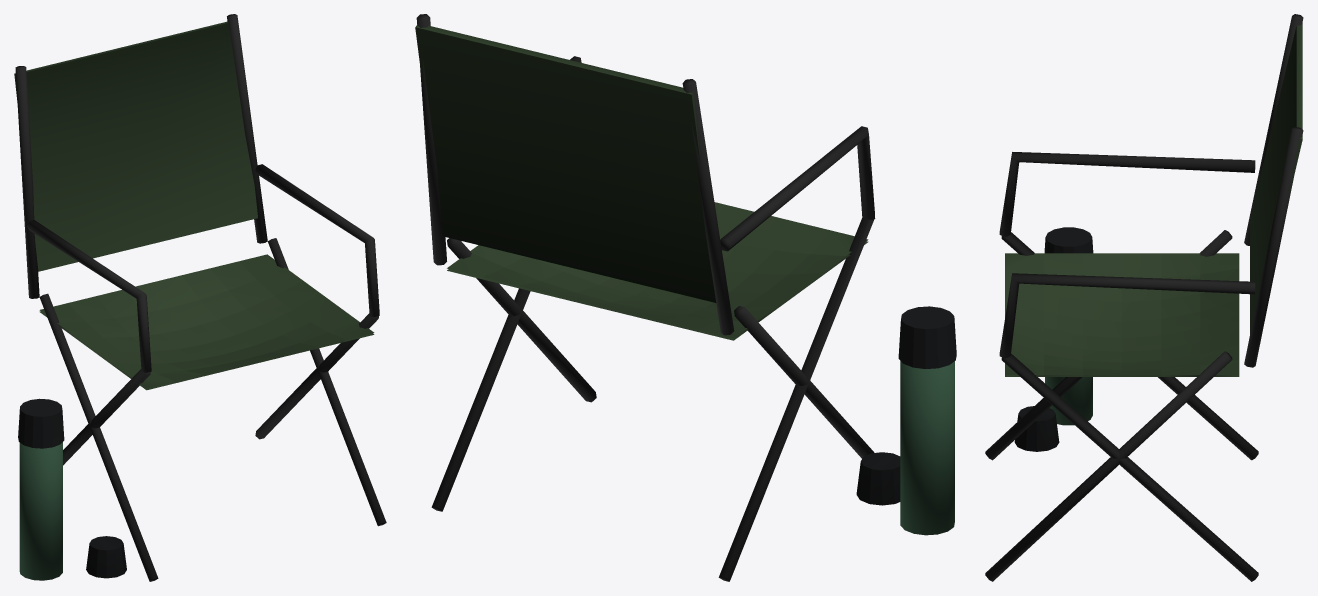
File: pike_chair.glb
3 views of the same model, side by side, from view 1: azimuth 30°, elevation 25°; view 2: azimuth 150°, elevation 25°; view 3: azimuth 270°, elevation 25° (orthographic). The views are drawn at different scales.
Visible parts, largest first — view 1: chair_LOD0, thermos_LOD0; view 2: chair_LOD0, thermos_LOD0; view 3: chair_LOD0, thermos_LOD0.
Boxes of the visible parts, box(x1,y1,x2,y2) form: chair_LOD0: box(14, 14, 386, 581); thermos_LOD0: box(18, 398, 126, 580); chair_LOD0: box(415, 14, 875, 581); thermos_LOD0: box(856, 306, 956, 535); chair_LOD0: box(985, 14, 1303, 581); thermos_LOD0: box(1014, 227, 1093, 451).
Size of what is drawn, in the model's own units: 0.7788 by 0.9288 by 0.5976.
